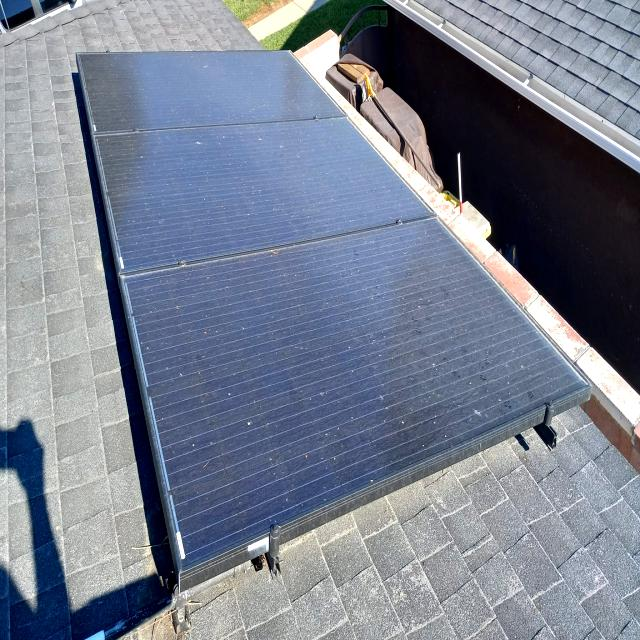dust: (414, 243, 580, 418), (190, 264, 292, 489), (324, 242, 387, 464), (227, 126, 338, 247), (130, 128, 213, 259), (102, 60, 190, 122), (208, 53, 288, 121)
